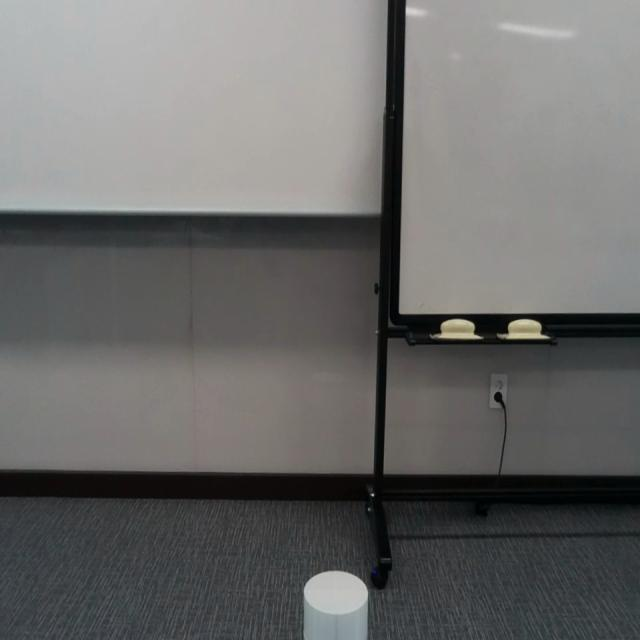cylinder: (302, 570, 367, 640)
